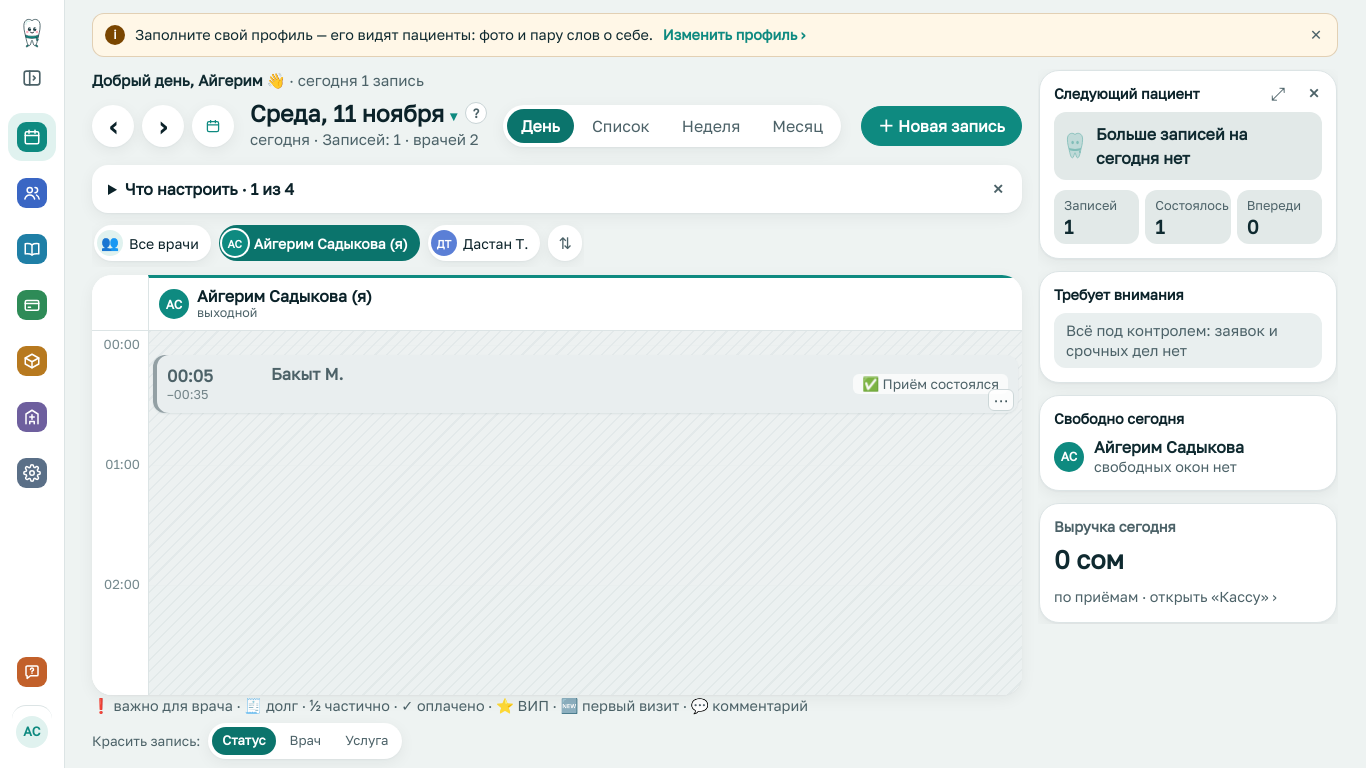
Scenario: карточка приёма (состоялся): «Приём» по частоте — продолжение, заметка, зубы, план, снимки, материалы, расход, лаборатория
The width and height of the screenshot is (1366, 768).
Click the button "00:05 –00:35 Бакыт М. ✅ Приём состоялся" at (190, 376), box [153,355,1018,413]
(page scrolled)
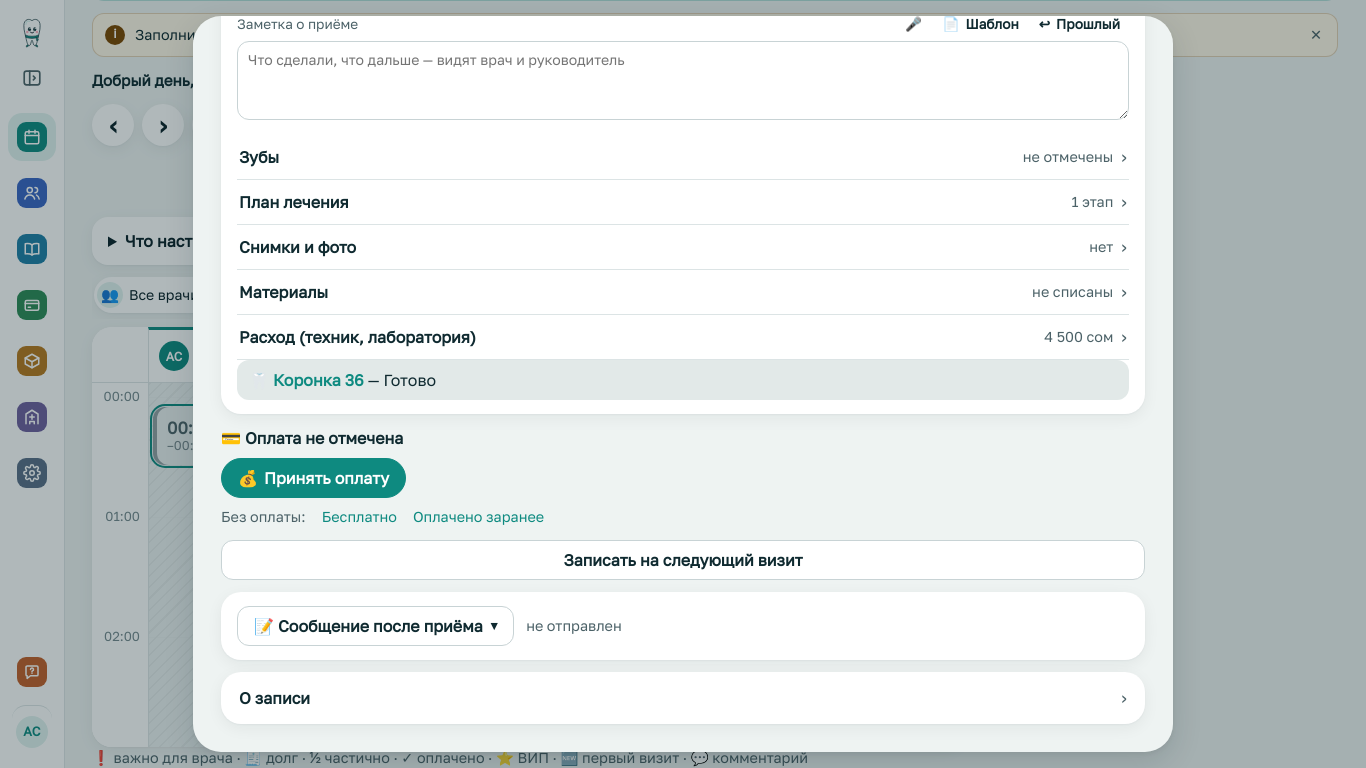
Expected: the element named "Лаборатория на этот приём" is shown, [237,360,1129,400]
